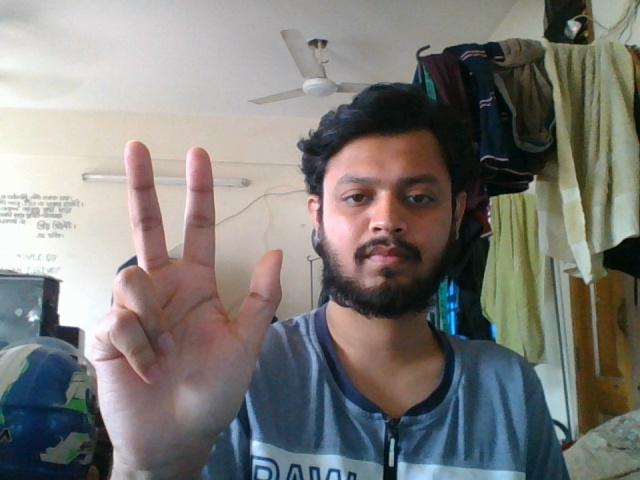da: (66, 135, 297, 479)
